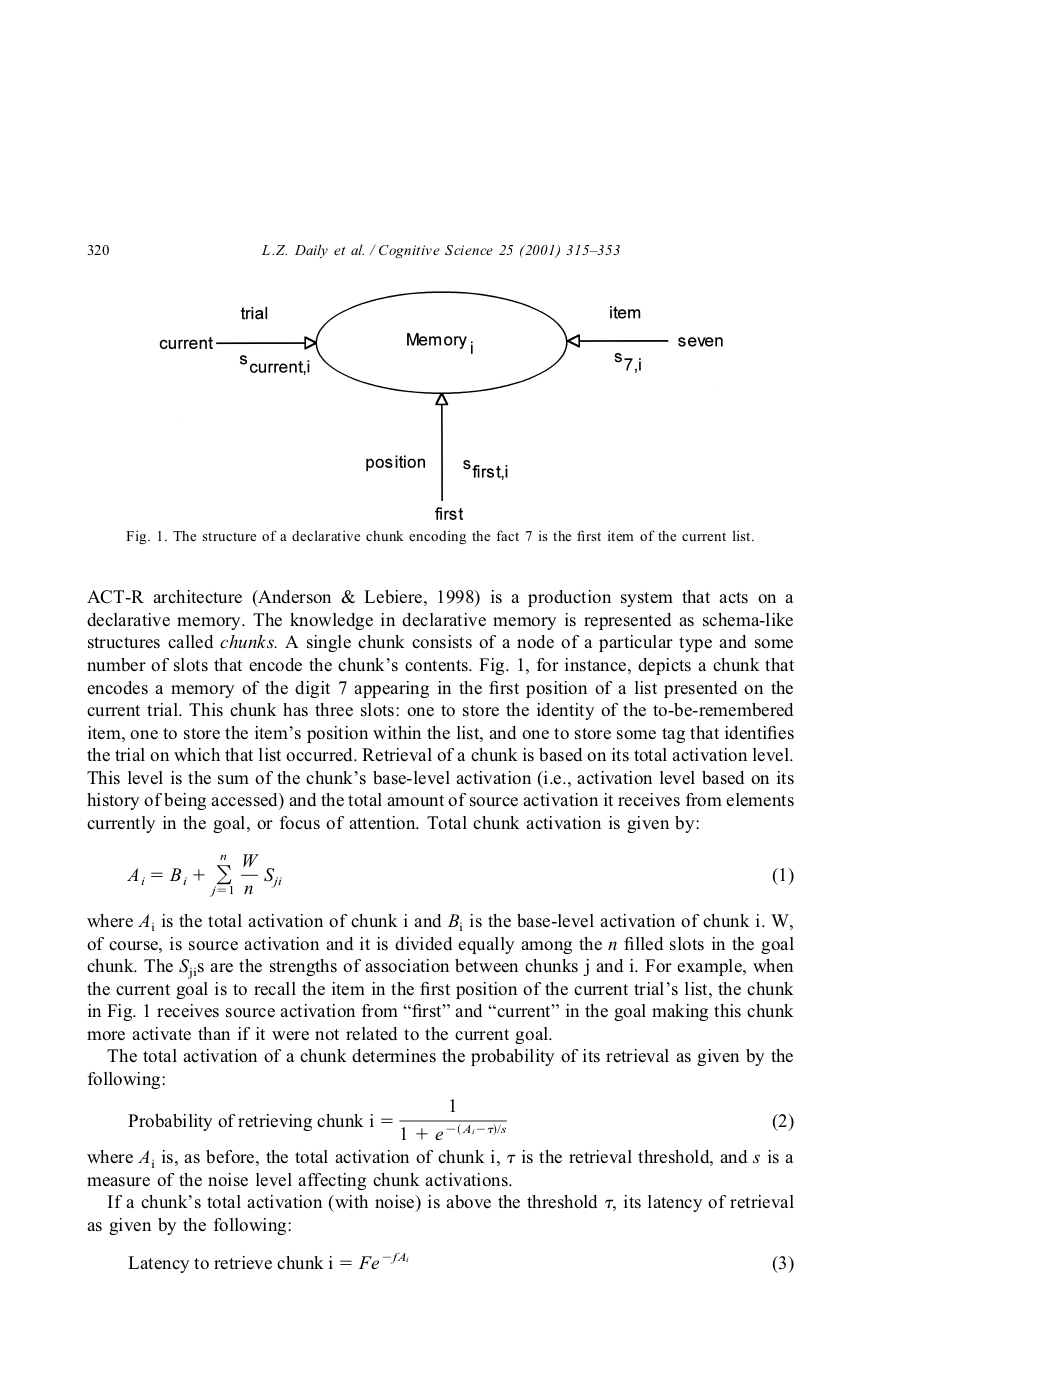figure: (159, 291, 722, 519)
formula: (127, 853, 794, 897)
